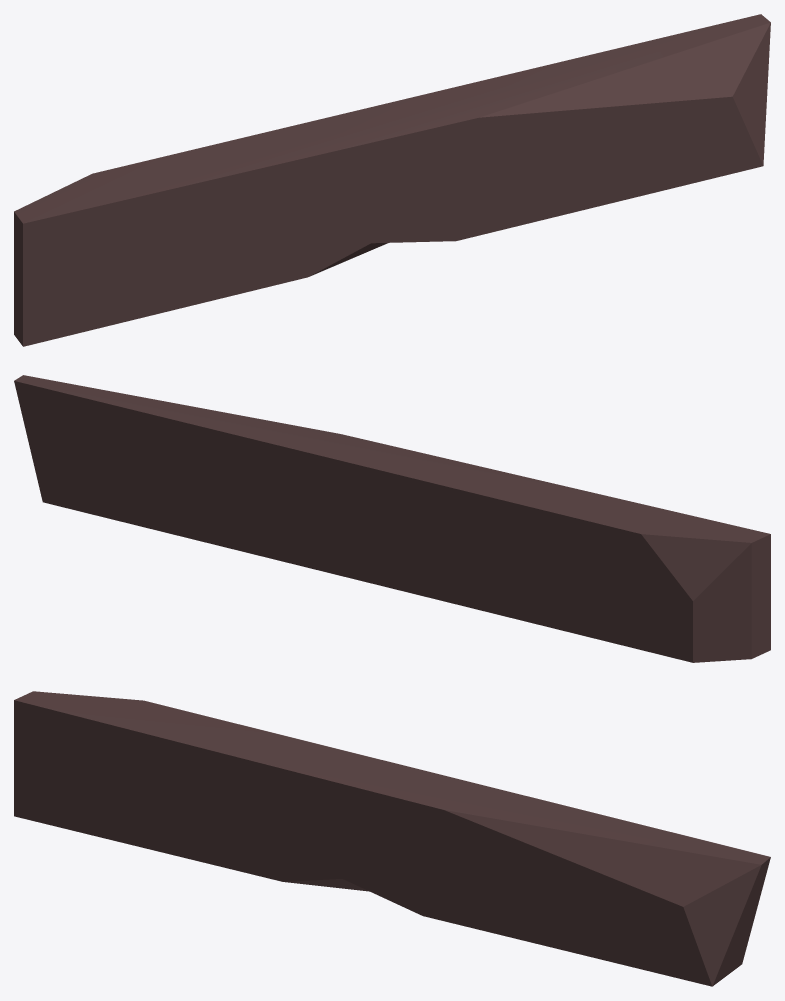
File: wood_11.FBX
3 renders of one model, top to bottom at view 1: azimuth 30°, elevation 25°; view 2: azimuth 150°, elevation 25°; view 3: azimuth 330°, elevation 25°, orthographic. The views are drawn at different scales.
Parts seen in each view (by area): view 1: wood_11; view 2: wood_11; view 3: wood_11.
Part boxes in pixels (x1,y1,x2,y2): wood_11: [14, 14, 770, 346]; wood_11: [14, 375, 770, 662]; wood_11: [14, 691, 770, 986].
Size of the model in its own units: 35.02 by 5.35 by 2.71.
